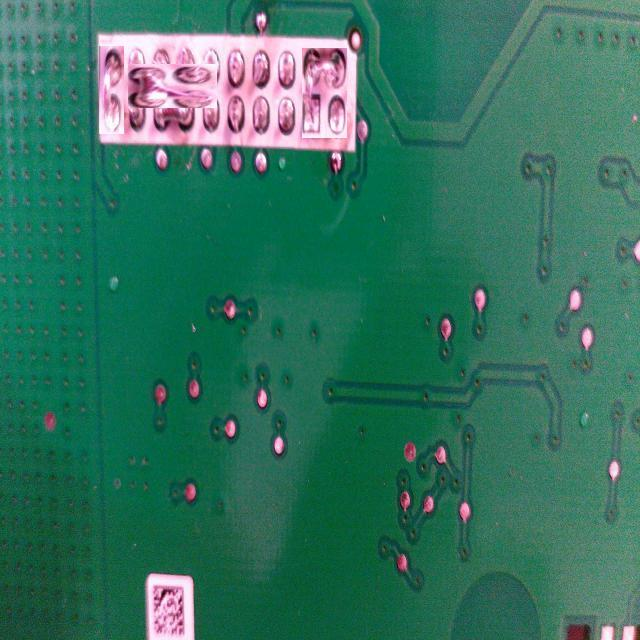Short_circuit: (138, 53, 206, 120), (302, 48, 347, 138), (99, 46, 124, 134)
